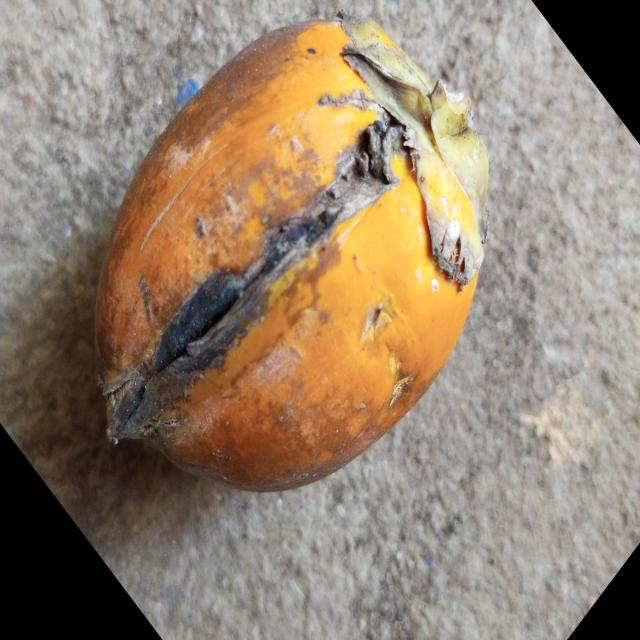damaged: (93, 20, 490, 495)
